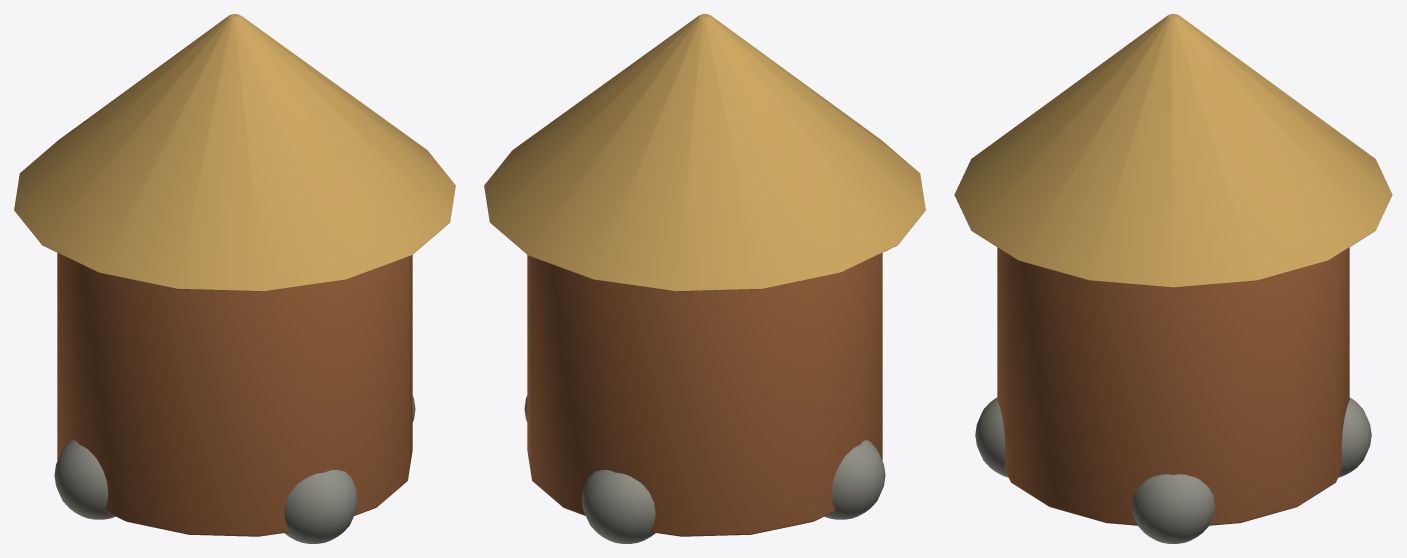
Rendered from rg_africa_2.glb.
3 renders of one model, left to right at view 1: azimuth 30°, elevation 25°; view 2: azimuth 150°, elevation 25°; view 3: azimuth 270°, elevation 25°, orthographic.
Parts seen in each view (by area): view 1: rg_africa_2; view 2: rg_africa_2; view 3: rg_africa_2.
Boxes of the visible parts, box(x1,y1,x2,y2) form: rg_africa_2: box(14, 14, 455, 543); rg_africa_2: box(484, 14, 925, 543); rg_africa_2: box(954, 14, 1392, 543).
Size of the model in its own units: 3.98 by 4.6 by 3.98.
